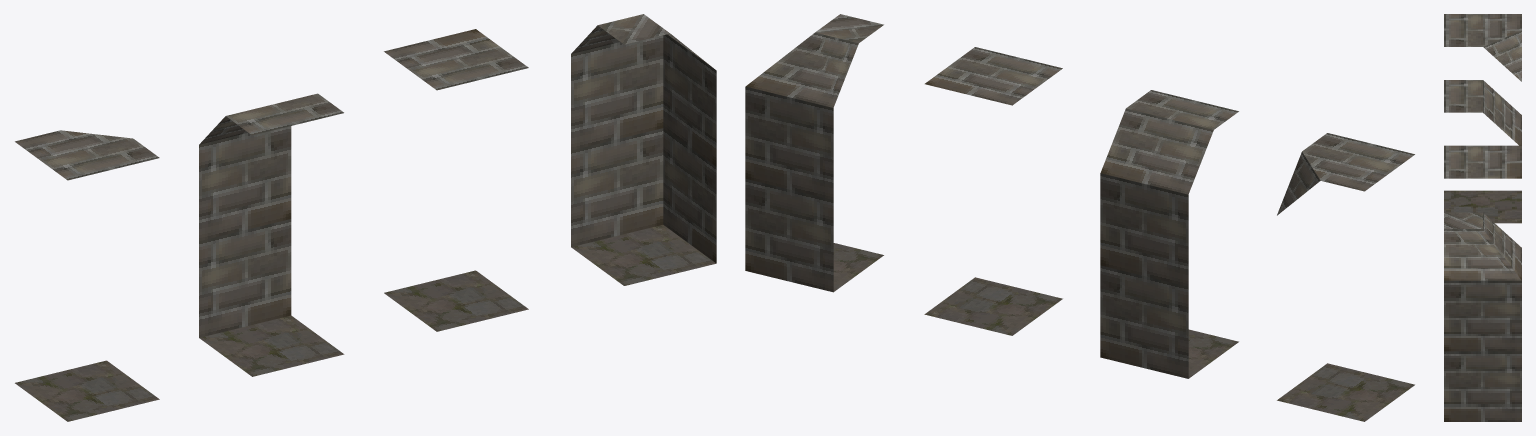
Rendered from tileset_dungeon.glb.
The picture shows the model from 3 angles, left to right: view 1: azimuth 30°, elevation 25°; view 2: azimuth 150°, elevation 25°; view 3: azimuth 270°, elevation 25°; orthographic projection. The views are drawn at different scales.
Parts seen in each view (by area): view 1: corner-in-col, wall-col, floor-col, corner-out-col; view 2: wall-col, corner-in-col, corner-out-col, floor-col; view 3: corner-in-col, corner-out-col, floor-col, wall-col.
Boxes of the visible parts, x1=… form: corner-in-col: x1=571, y1=14, x2=716, y2=285; wall-col: x1=199, y1=93, x2=344, y2=376; floor-col: x1=384, y1=29, x2=528, y2=331; corner-out-col: x1=15, y1=130, x2=159, y2=421; wall-col: x1=1100, y1=90, x2=1238, y2=378; corner-in-col: x1=745, y1=14, x2=883, y2=292; corner-out-col: x1=1277, y1=133, x2=1414, y2=421; floor-col: x1=924, y1=47, x2=1062, y2=335; corner-in-col: x1=1444, y1=212, x2=1521, y2=421; corner-out-col: x1=1444, y1=14, x2=1521, y2=223; floor-col: x1=1444, y1=145, x2=1521, y2=178; wall-col: x1=1444, y1=80, x2=1521, y2=145.
Bounding box in the file's own units: 7.03 × 2.5 × 1.
Materials: 1 (1 with a texture image).
